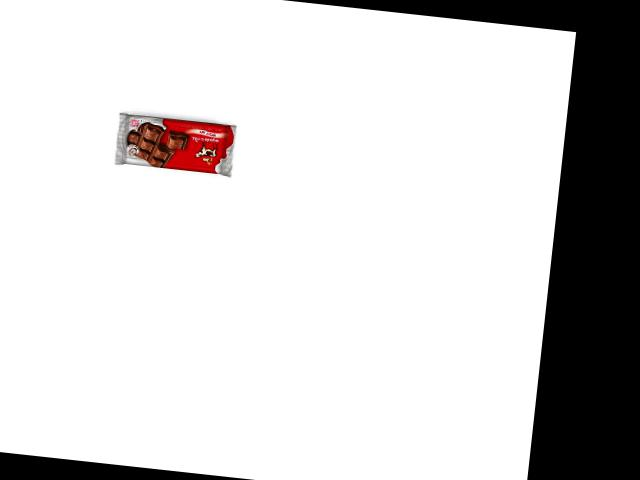chocolate: (110, 111, 237, 178)
